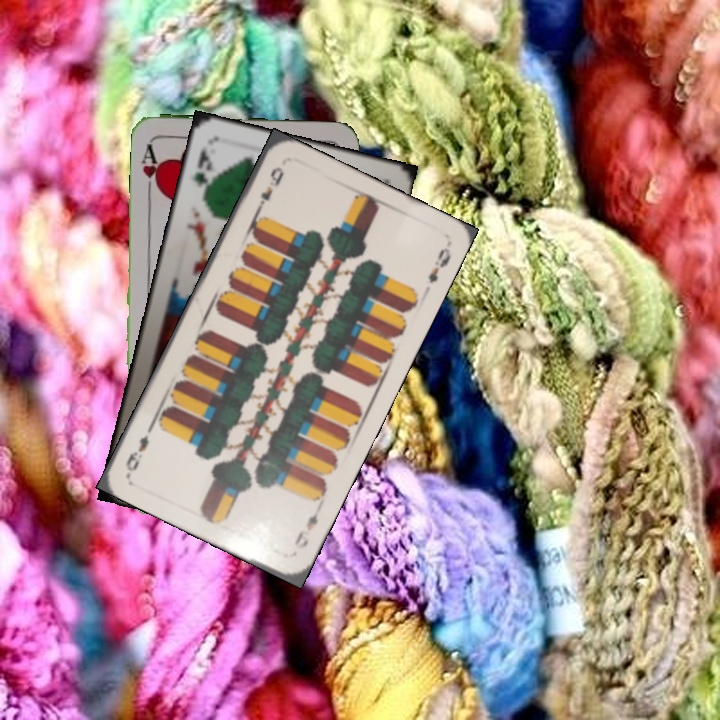E9: (252, 163, 287, 215), (290, 502, 324, 552)
GK: (188, 144, 216, 199)
HA: (137, 139, 164, 198)
